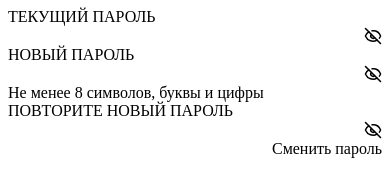
Test: ChangePasswordForm › требует текущий и новый пароль
What coordinates should you click on to do the following:
click the button "Сменить пароль"
I would click on:
 (327, 149)
Its box is [272,140,382,158].
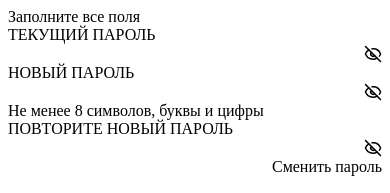
Check: the message reads "Заполните все поля", box [8,8,140,25]
